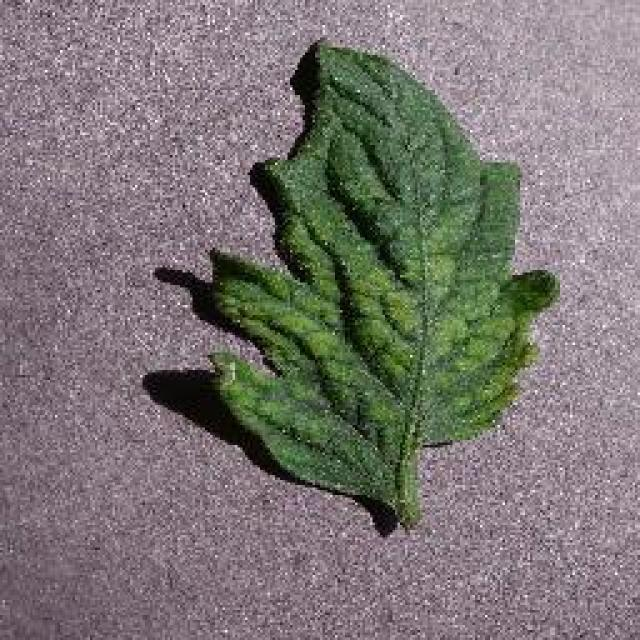Tomato___Tomato_mosaic_virus: (205, 42, 558, 525)
